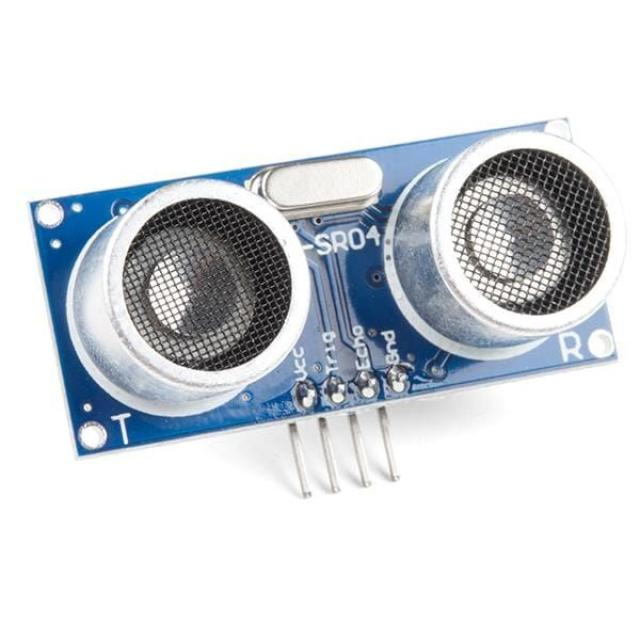Ultrasonic Sensor: (19, 98, 635, 545)
